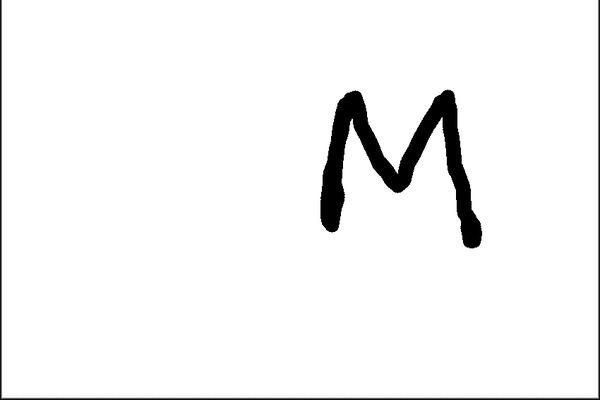M: (319, 83, 491, 249)
